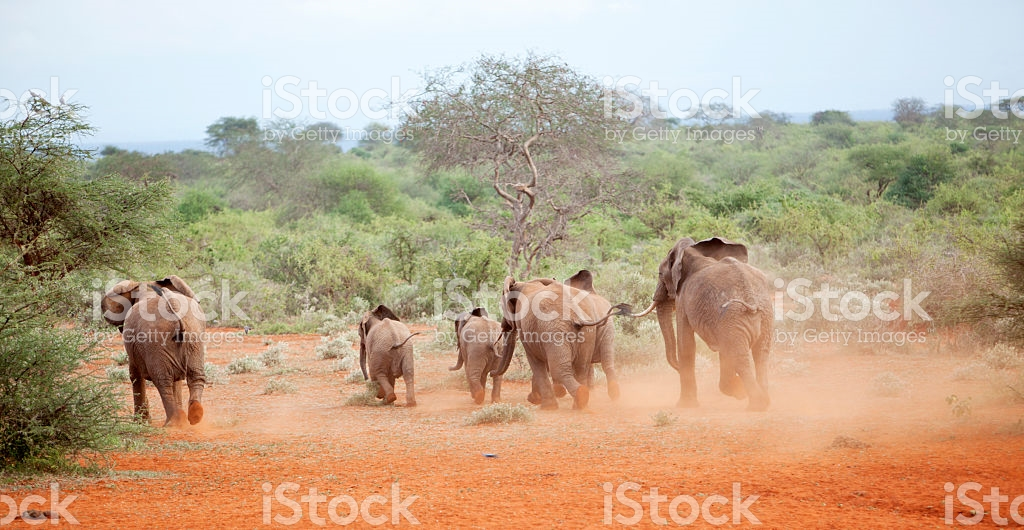elephant: (643, 239, 777, 424), (98, 270, 221, 434), (479, 278, 595, 415), (348, 305, 430, 416), (450, 312, 530, 408)
